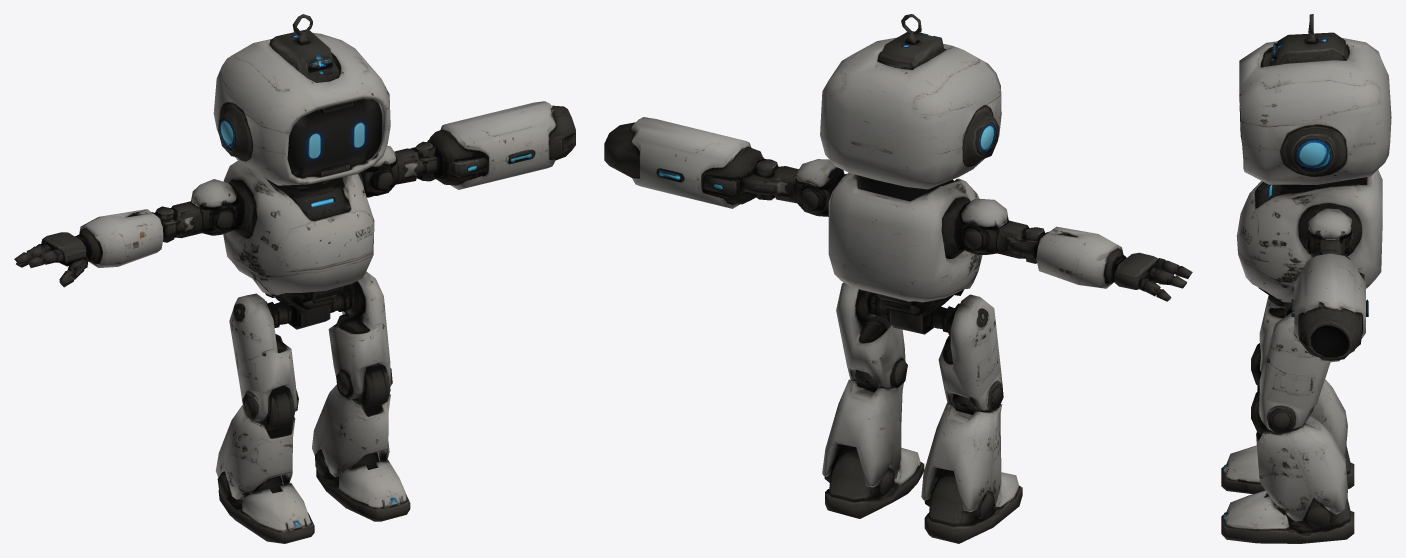
File: selected.fbx
3 views of the same model, side by side, from view 1: azimuth 30°, elevation 25°; view 2: azimuth 150°, elevation 25°; view 3: azimuth 270°, elevation 25° (orthographic). The views are drawn at different scales.
Visible parts, largest first — view 1: tripo_node_b6f2ae1d-a115-471e-b99e-702695f75c77; view 2: tripo_node_b6f2ae1d-a115-471e-b99e-702695f75c77; view 3: tripo_node_b6f2ae1d-a115-471e-b99e-702695f75c77.
Part boxes in pixels (bbox=[...]): tripo_node_b6f2ae1d-a115-471e-b99e-702695f75c77: bbox=[14, 14, 575, 543]; tripo_node_b6f2ae1d-a115-471e-b99e-702695f75c77: bbox=[604, 14, 1192, 543]; tripo_node_b6f2ae1d-a115-471e-b99e-702695f75c77: bbox=[1221, 14, 1391, 543].
Size of the model in its own units: 99.8 by 83.4 by 25.98.
1 material, 1 textured.
